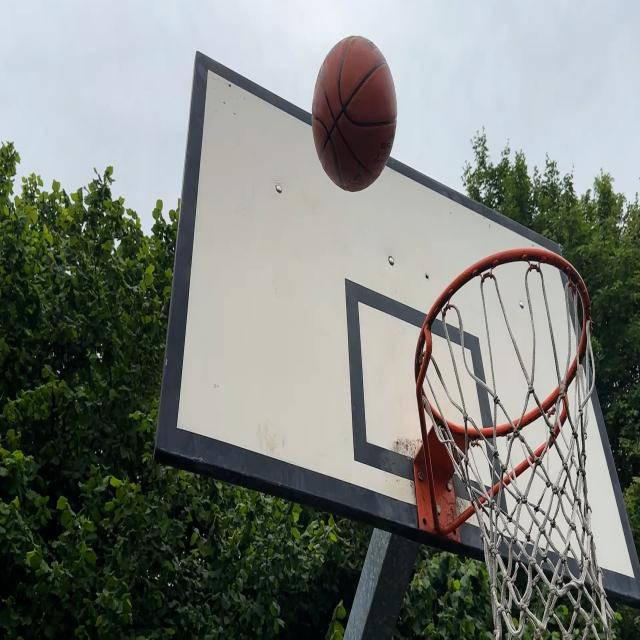Basketball: (312, 36, 397, 193)
